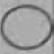no answer: (0, 1, 54, 54)
